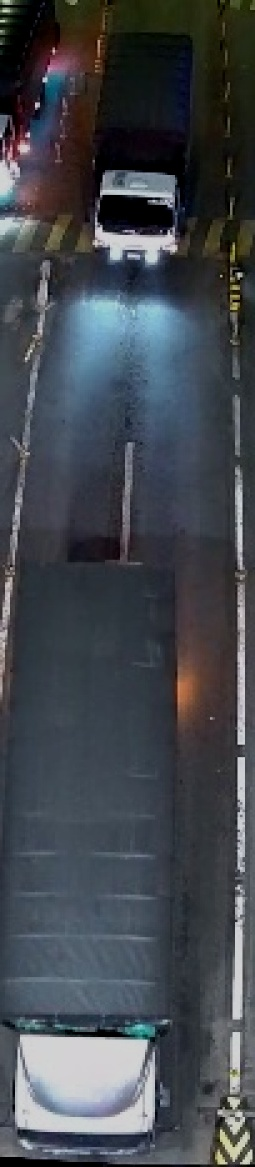truck: (2, 557, 188, 1153), (74, 27, 202, 273)
